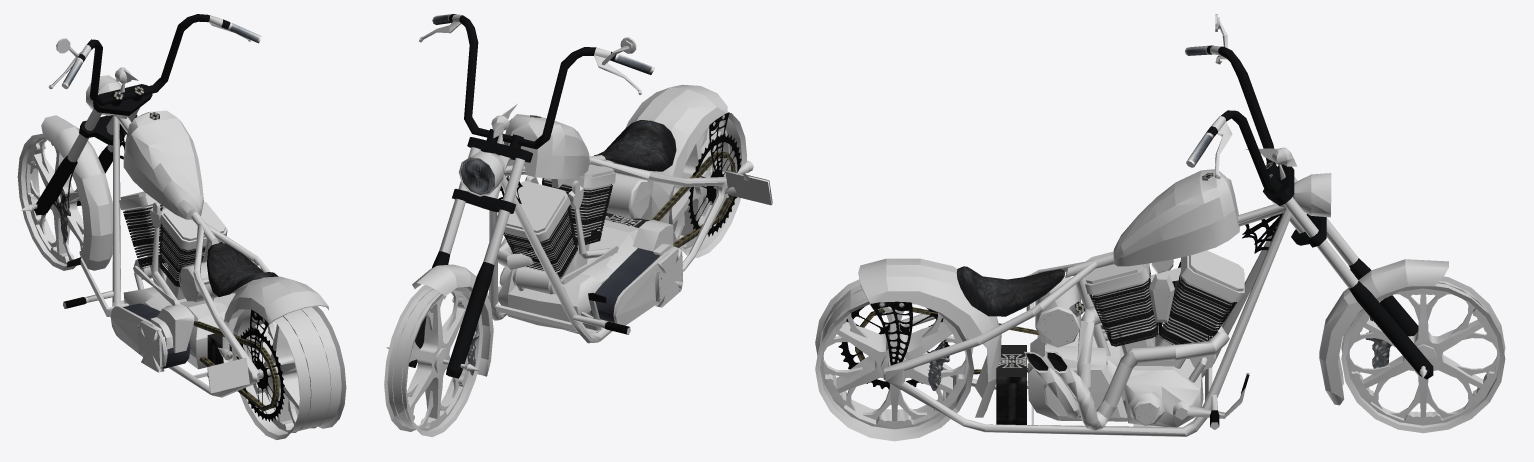
Rendered from vp_wcc_cfl_03.glb.
3 renders of one model, left to right at view 1: azimuth 30°, elevation 25°; view 2: azimuth 150°, elevation 25°; view 3: azimuth 270°, elevation 25°, orthographic. The views are drawn at different scales.
Parts seen in each view (by area): view 1: Body_h.mesh, whl_5_rim_0, fender_h.mesh, fork_upper_h.mesh, whl_3_rim_0, fork_lower_h.mesh, chain.mesh, sprocket.mesh, body_h1.mesh; view 2: Body_h.mesh, whl_3_rim_0, fork_upper_h.mesh, fork_lower_h.mesh, whl_5_rim_0, fender_h.mesh, sprocket.mesh, chain.mesh, Exh_H.mesh; view 3: Body_h.mesh, whl_5_rim_0, whl_3_rim_0, fork_upper_h.mesh, Exh_H.mesh, fork_lower_h.mesh, fender_h.mesh, sprocket.mesh.
Part boxes in pixels (bbox=[...]): Body_h.mesh: bbox=[63, 110, 328, 397]; whl_5_rim_0: bbox=[231, 306, 346, 439]; fender_h.mesh: bbox=[41, 115, 112, 270]; fork_upper_h.mesh: bbox=[48, 14, 261, 115]; whl_3_rim_0: bbox=[17, 134, 84, 270]; fork_lower_h.mesh: bbox=[34, 108, 139, 215]; chain.mesh: bbox=[193, 321, 279, 411]; sprocket.mesh: bbox=[236, 328, 284, 421]; body_h1.mesh: bbox=[208, 358, 249, 392]; Body_h.mesh: bbox=[485, 84, 772, 343]; whl_3_rim_0: bbox=[384, 285, 482, 437]; fork_upper_h.mesh: bbox=[419, 14, 654, 196]; fork_lower_h.mesh: bbox=[408, 147, 525, 378]; whl_5_rim_0: bbox=[669, 112, 746, 257]; fender_h.mesh: bbox=[412, 264, 493, 376]; sprocket.mesh: bbox=[688, 133, 741, 236]; chain.mesh: bbox=[651, 152, 735, 247]; Exh_H.mesh: bbox=[497, 238, 537, 269]; Body_h.mesh: bbox=[858, 169, 1304, 436]; whl_5_rim_0: bbox=[815, 279, 974, 441]; whl_3_rim_0: bbox=[1341, 276, 1505, 433]; fork_upper_h.mesh: bbox=[1185, 14, 1331, 217]; Exh_H.mesh: bbox=[1024, 305, 1229, 430]; fork_lower_h.mesh: bbox=[1284, 177, 1433, 379]; fender_h.mesh: bbox=[1319, 259, 1448, 405]; sprocket.mesh: bbox=[838, 307, 949, 389].
Size of what is drawn, in the model's own units: 0.9261 by 1.42 by 2.45.
Materials: 19 (9 with a texture image).
